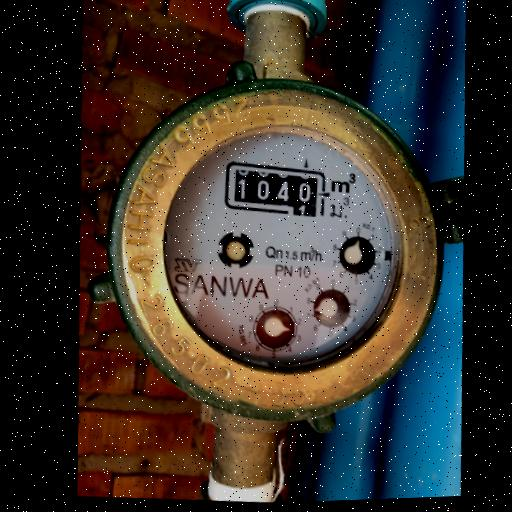0: (292, 176, 318, 218), (252, 170, 274, 205)
1: (231, 169, 252, 204)
4: (271, 173, 294, 207)
border_water_meter_number: (219, 158, 335, 222)
